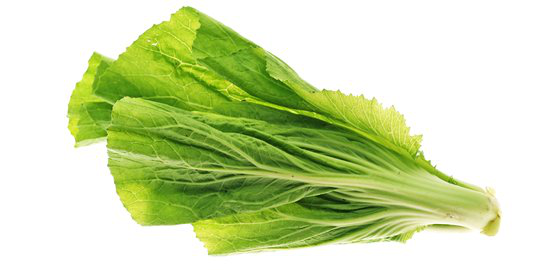Sawi: (53, 29, 512, 249)
